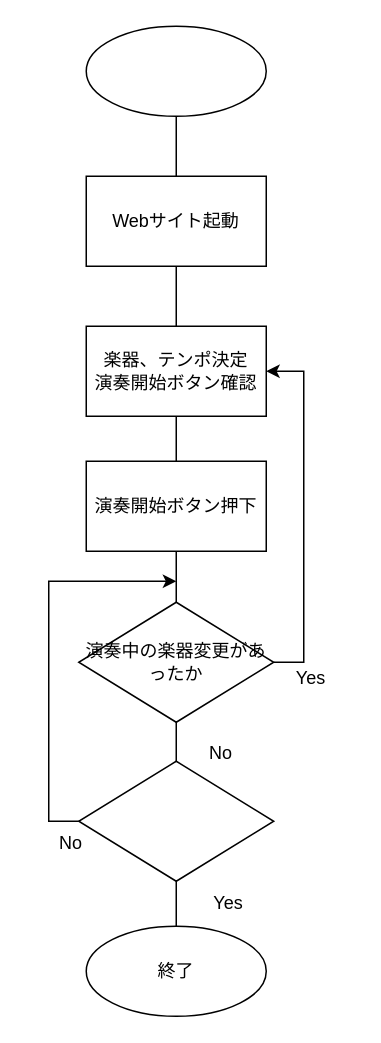
This 381x1043 diagram has some shape labels left out. Each missing label, with the centre of its shape:
演奏停止ボタンが 押されたか: [175,820]
開始: [175,70]
